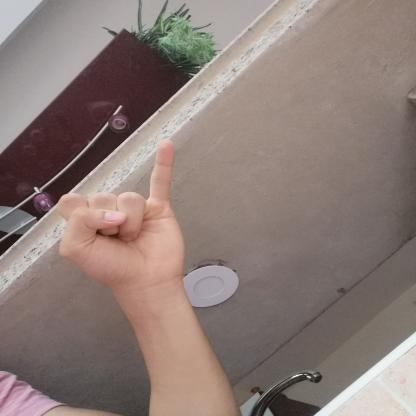MEEM: (47, 132, 190, 296)
